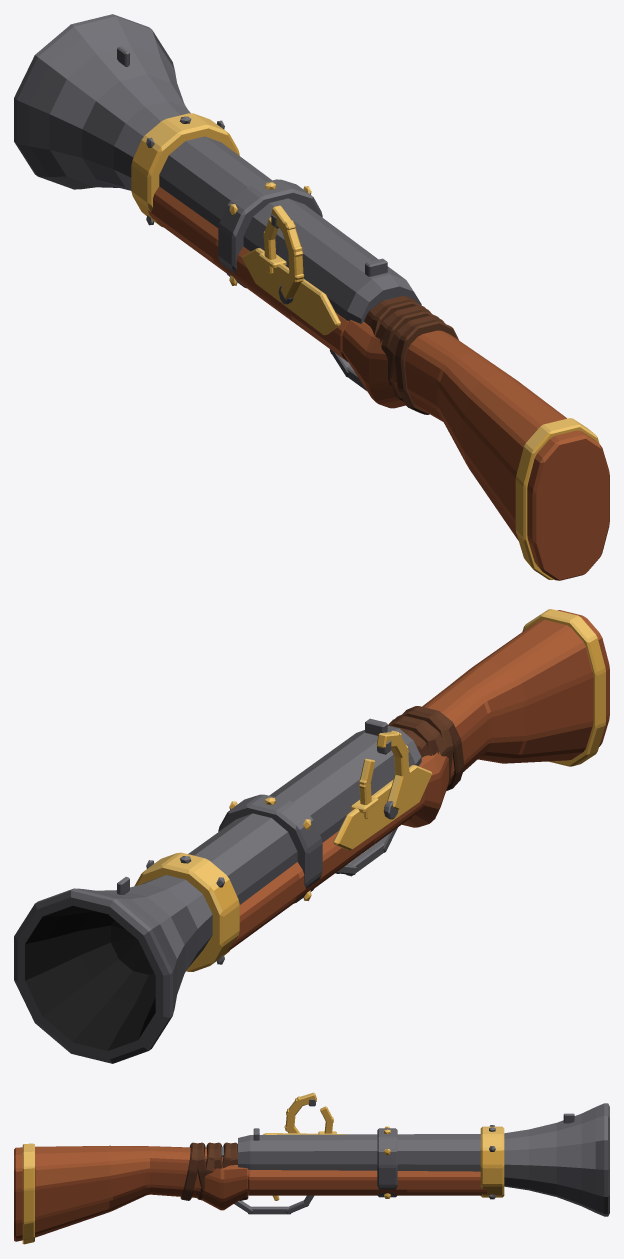
File: blunderbuss.glb
3 renders of one model, top to bottom at view 1: azimuth 30°, elevation 25°; view 2: azimuth 150°, elevation 25°; view 3: azimuth 270°, elevation 25°, orthographic. The views are drawn at different scales.
Visible parts, largest first — view 1: Blunderbuss; view 2: Blunderbuss; view 3: Blunderbuss.
Boxes of the visible parts, <box> form: Blunderbuss: <box>14,14,609,580</box>; Blunderbuss: <box>14,609,609,1063</box>; Blunderbuss: <box>14,1092,609,1244</box>.
Size of the model in its own units: 0.1797 by 0.2335 by 0.963.
